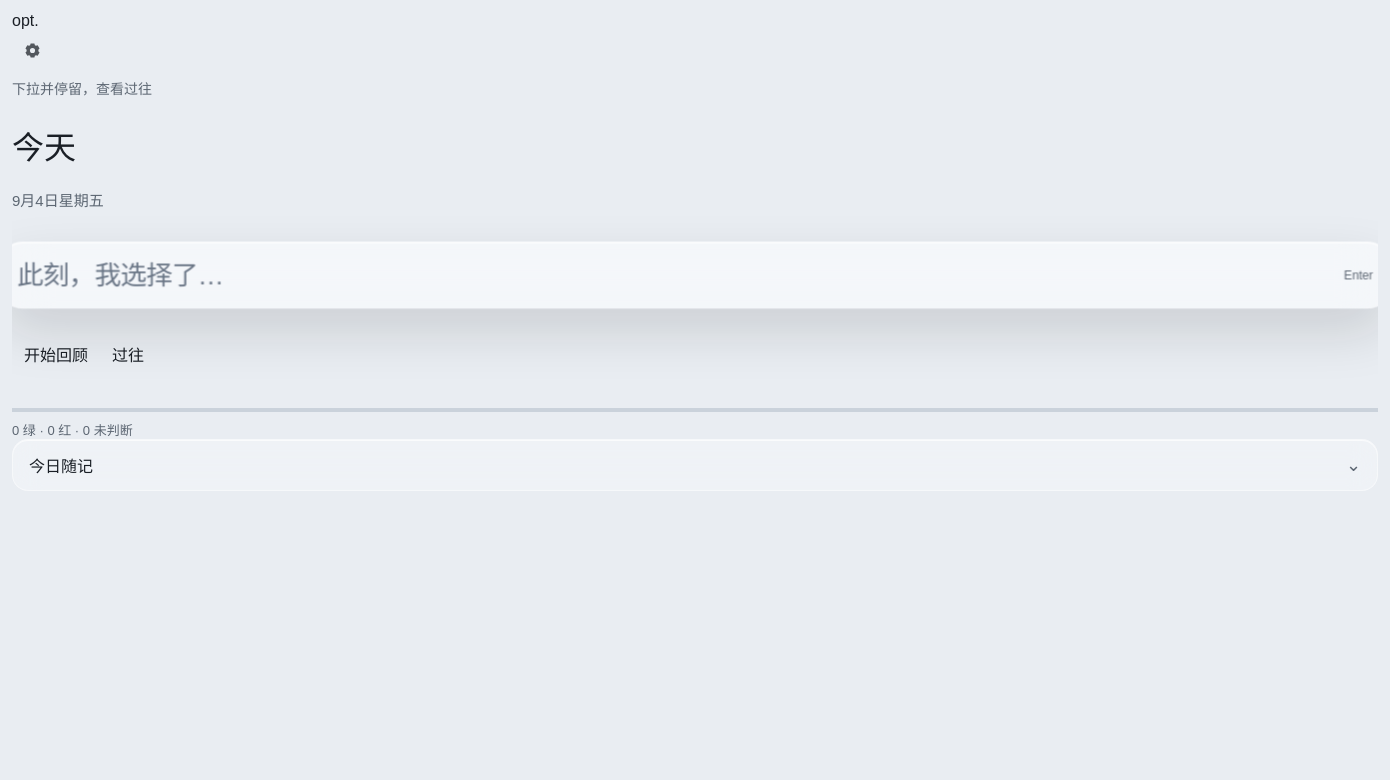
TodayPage › keeps an in-memory choice visible and reports save failure
Type "无法保存但仍可见" into the field named "记录此刻的选择" at (660, 276), box top-left (17, 243), bottom-right (1304, 308)
Then press Enter
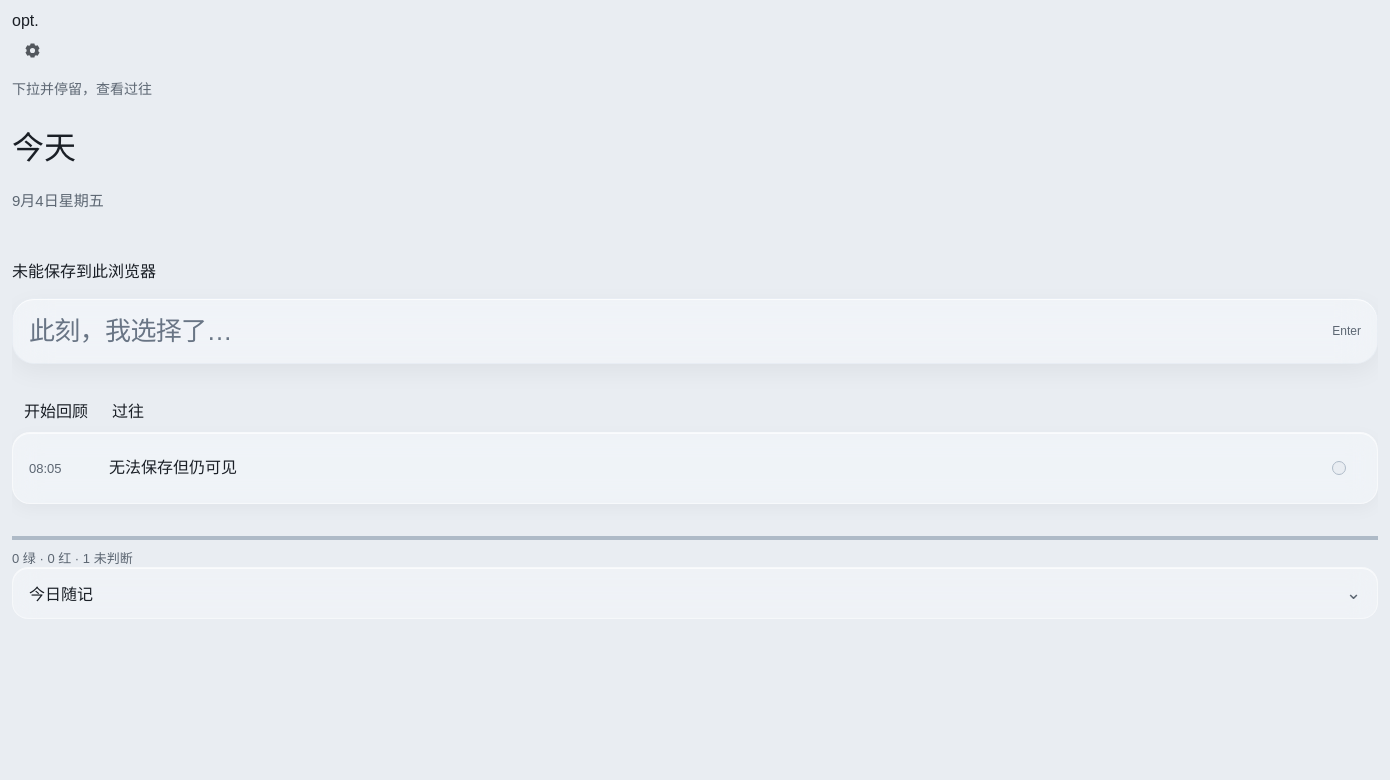
Now the text "无法保存但仍可见" is shown, box top-left (109, 459), bottom-right (237, 476)
Now the message reads "未能保存到此浏览器", box top-left (12, 263), bottom-right (156, 280)
